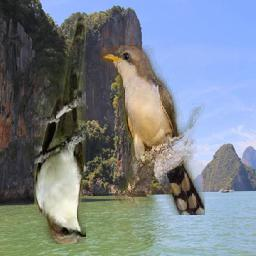Cuckoo: (101, 45, 206, 215), (34, 14, 86, 244)
